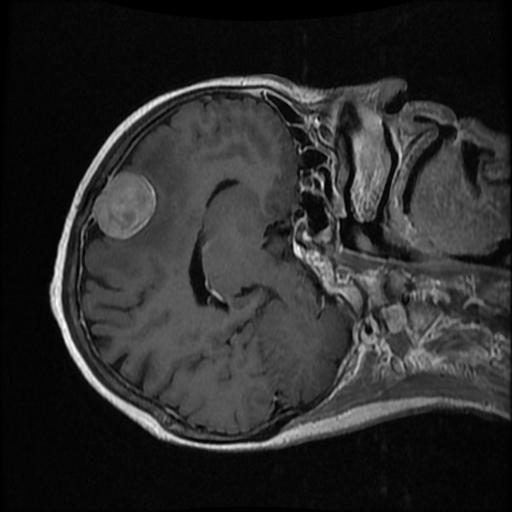meningioma: (92, 170, 154, 239)
